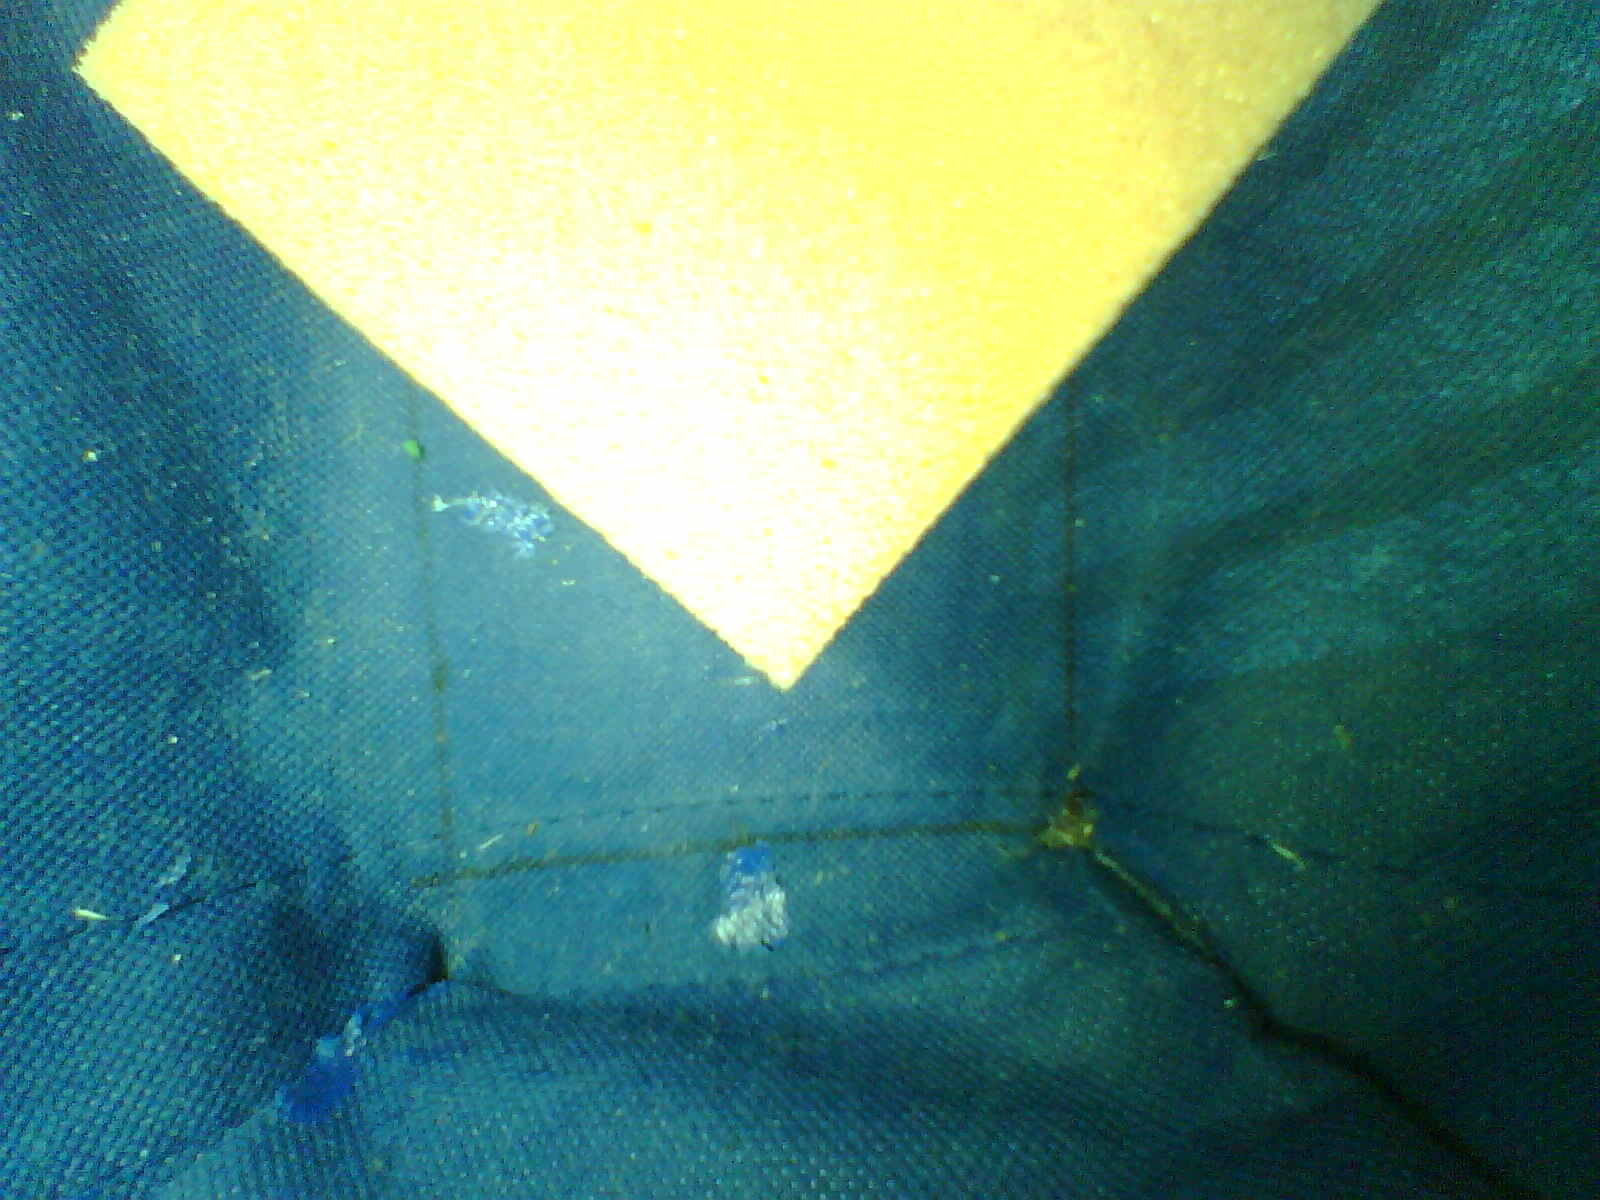cube-soft: (54, 0, 1403, 732)
